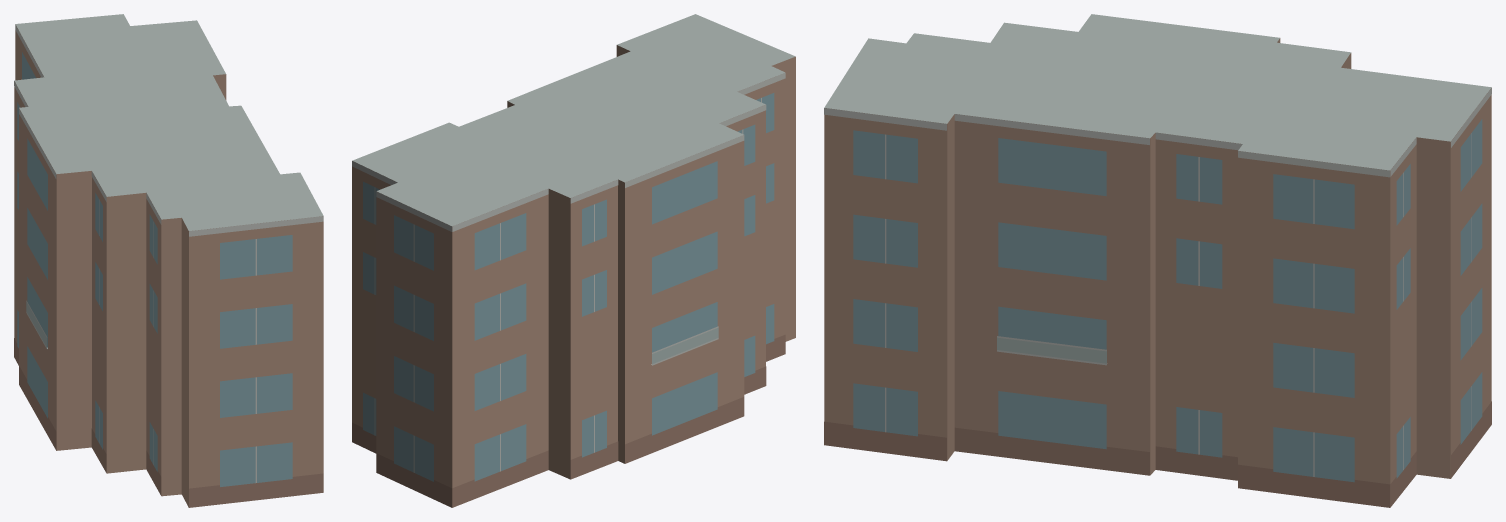
Rendered from survey-upis-32937590.glb.
3 renders of one model, left to right at view 1: azimuth 30°, elevation 25°; view 2: azimuth 150°, elevation 25°; view 3: azimuth 270°, elevation 25°, orthographic. The views are drawn at different scales.
Parts seen in each view (by area): view 1: survey-upis-32937590.tmp; view 2: survey-upis-32937590.tmp; view 3: survey-upis-32937590.tmp.
Part boxes in pixels (x1,y1,x2,y2): survey-upis-32937590.tmp: (14,14,323,507); survey-upis-32937590.tmp: (352,14,795,507); survey-upis-32937590.tmp: (824,14,1491,507).
Bounding box in the file's own units: 11.9 × 11.95 × 21.44.
